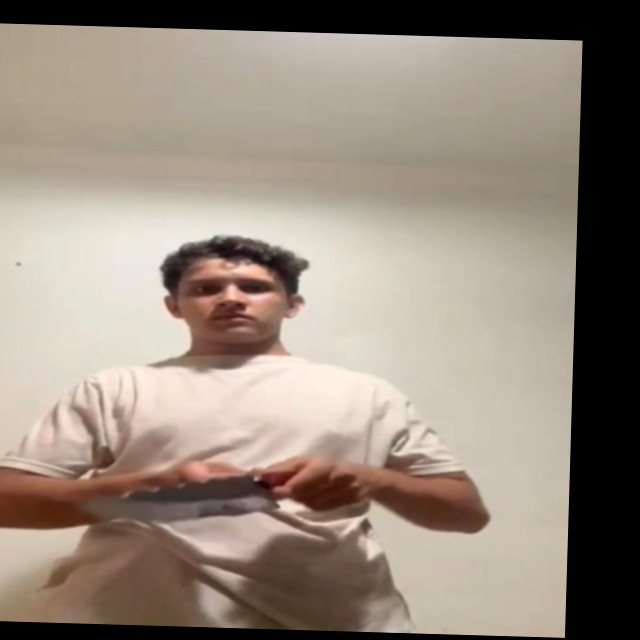Sharp-Object: (67, 471, 272, 534)
